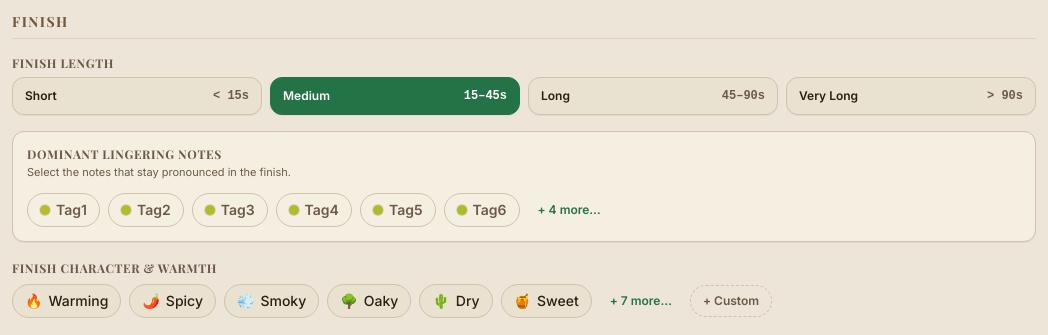
Test: FinishTimeIntensityDiagram Component › collapses long lists of lingering notes and expands on clicking + X more
This screenshot has width=1048, height=335.
# Click expand
Click the button "+ 4 more…" at (569, 210), box left=528, top=198, right=611, bottom=222
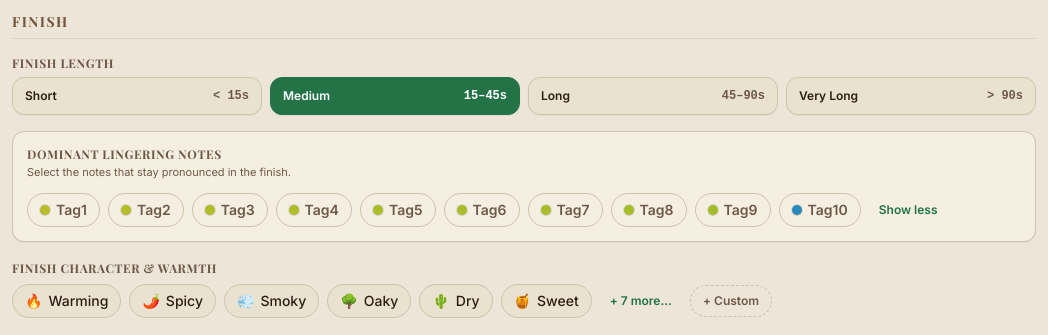
Expected: the button "Tag10" is shown, left=779, top=192, right=861, bottom=226
Expected: the button "Show less" is shown, left=869, top=198, right=948, bottom=222
